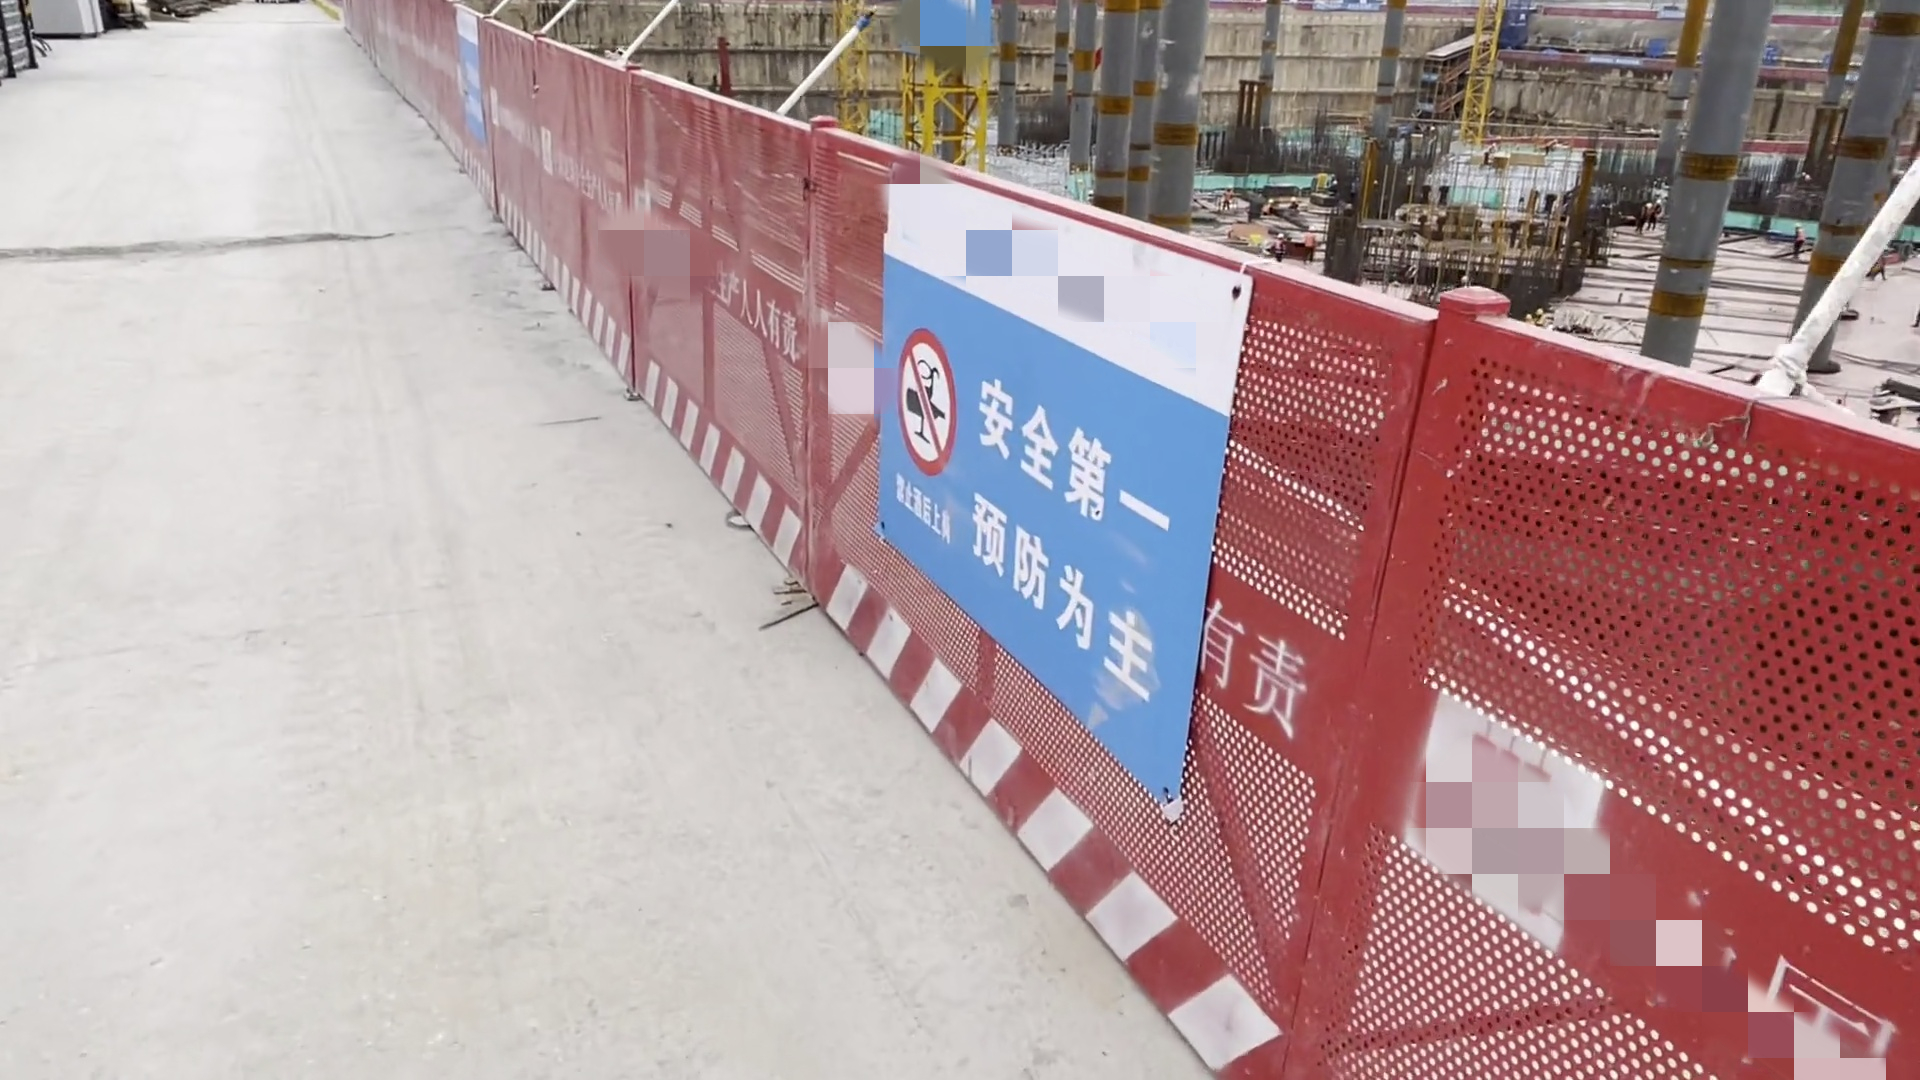fence: (349, 22, 1895, 1072)
slogan: (862, 142, 1230, 843)
